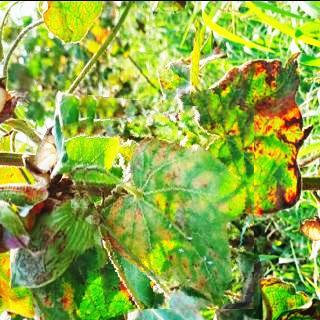blight: (71, 94, 254, 308)
